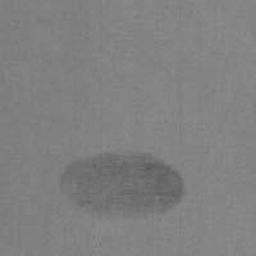Oil spot: (58, 148, 189, 225)
